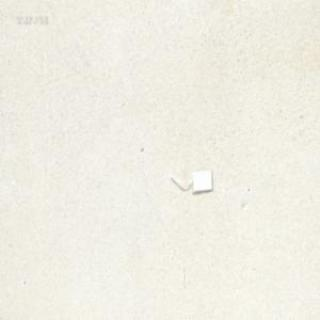LuggageTagtrack_idkeyframe: (168, 167, 212, 194)
